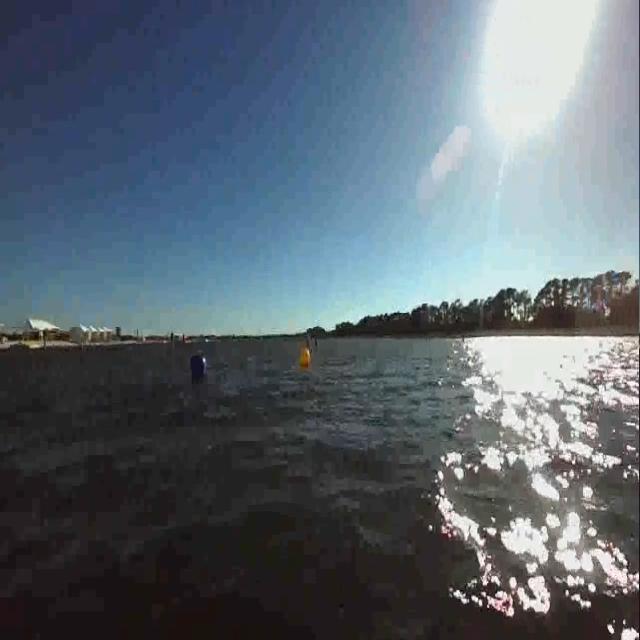blue-buoy: (192, 353, 208, 379)
yellow-buoy: (301, 348, 313, 368)
